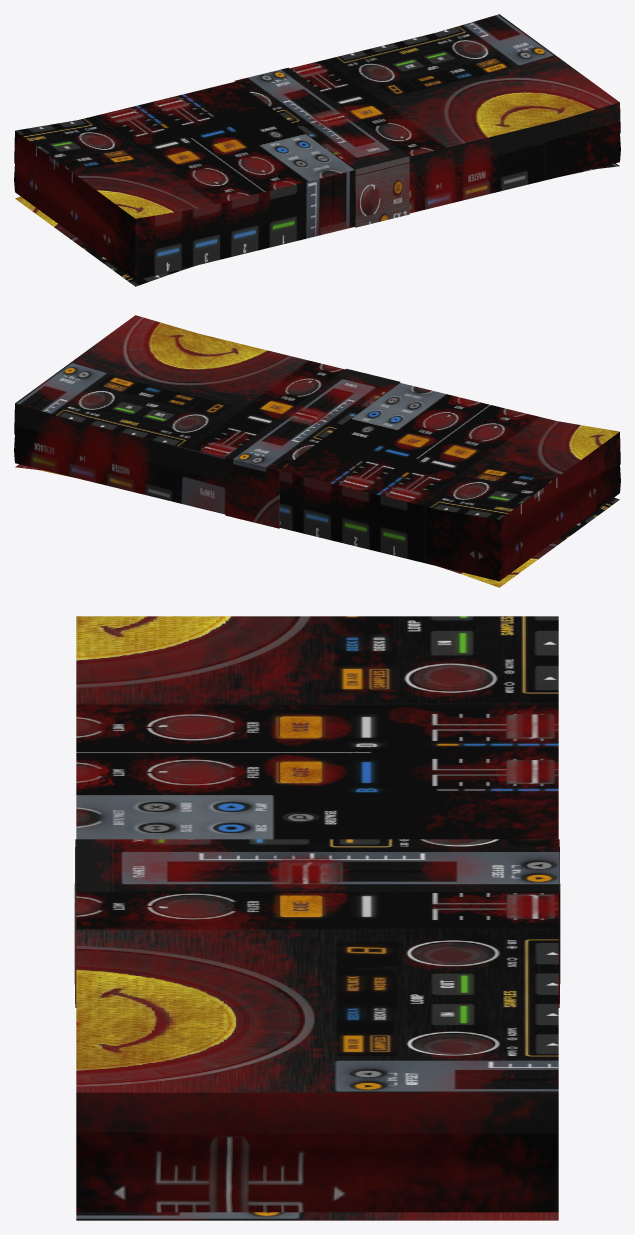
The picture shows the model from 3 angles, top to bottom: view 1: azimuth 30°, elevation 25°; view 2: azimuth 150°, elevation 25°; view 3: azimuth 270°, elevation 25°; orthographic projection. The views are drawn at different scales.
Parts seen in each view (by area): view 1: Wad_Wad_0; view 2: Wad_Wad_0; view 3: Wad_Wad_0.
Boxes of the visible parts, x1,y1,x2,y2 form: Wad_Wad_0: (14, 14, 620, 286); Wad_Wad_0: (14, 315, 620, 587); Wad_Wad_0: (74, 616, 560, 1220).
Bounding box in the file's own units: 22.93 × 3.06 × 9.91.
